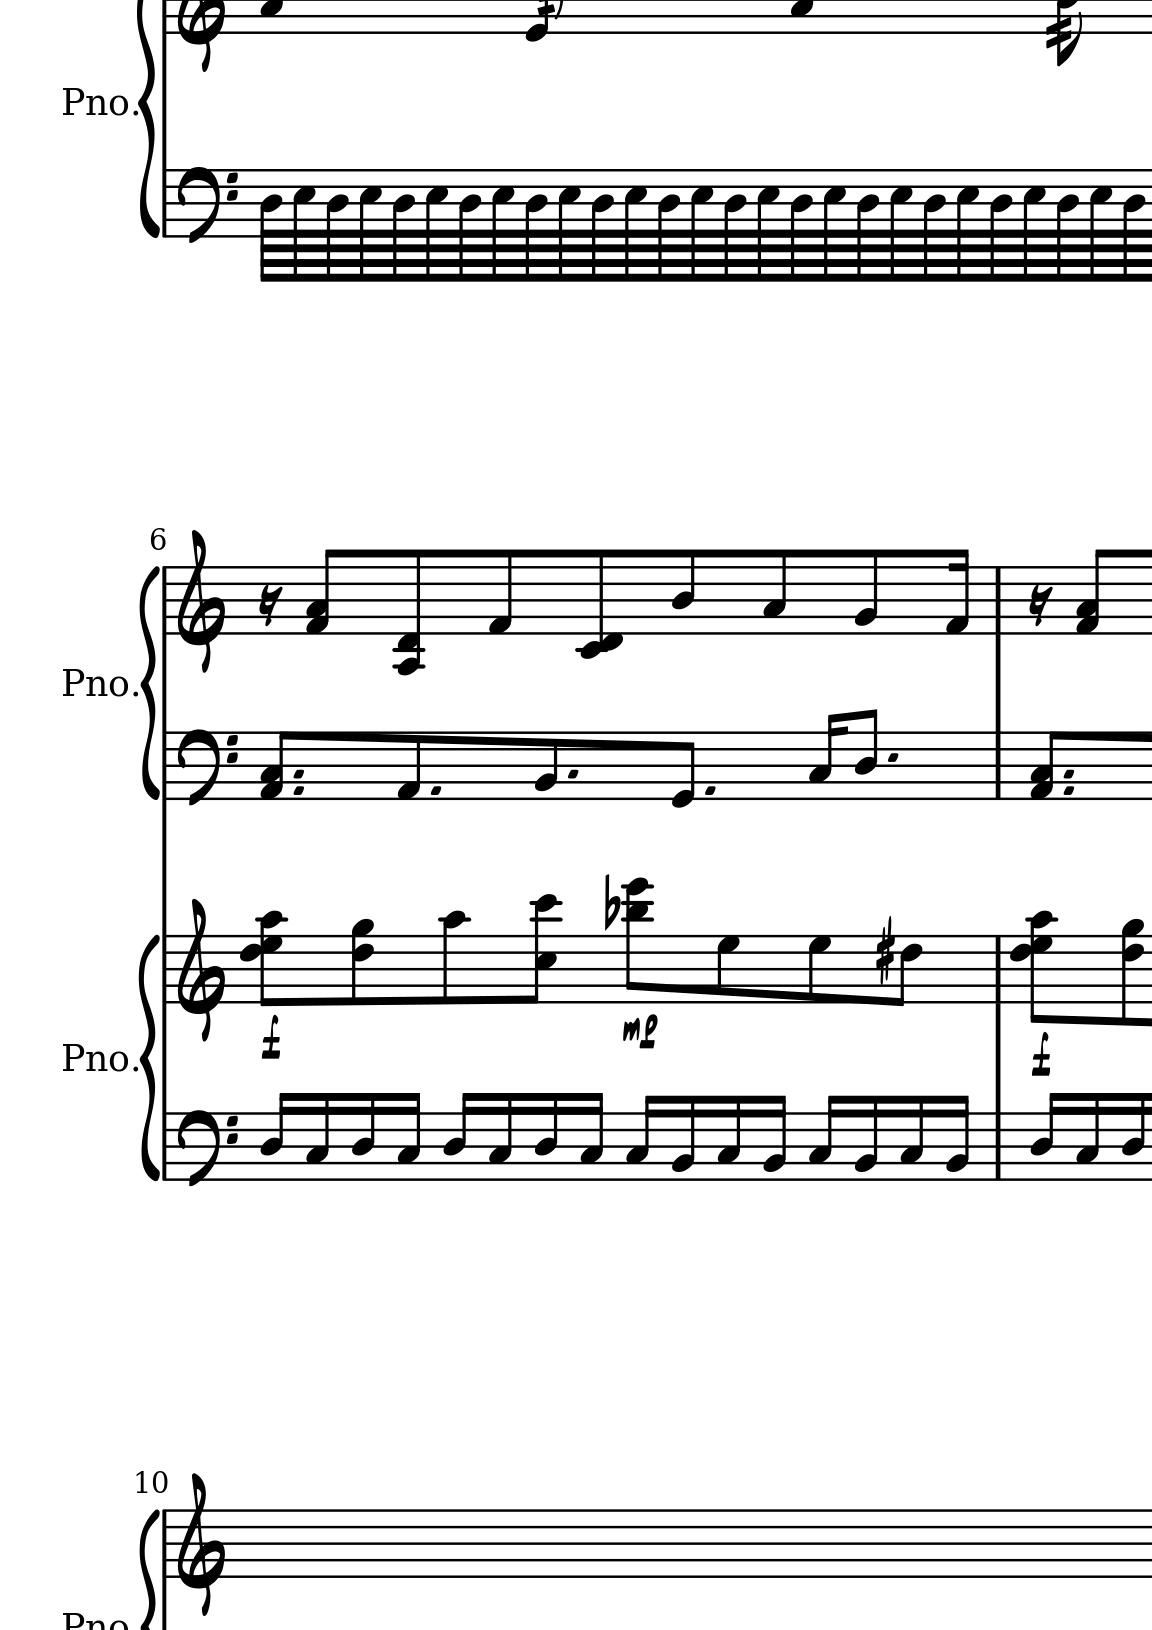0: (150, 1466, 168, 1495)
1: (133, 1467, 150, 1497)
16_1: (943, 547, 970, 639)
16_2: (943, 1093, 971, 1183), (852, 1094, 880, 1183), (670, 1094, 697, 1183), (761, 1093, 787, 1183)
16_3: (805, 712, 847, 801), (622, 1093, 657, 1183), (805, 1093, 840, 1183), (302, 1090, 330, 1183), (485, 1090, 514, 1183), (1073, 1090, 1102, 1183), (896, 1093, 925, 1183), (394, 1090, 421, 1183), (576, 1090, 603, 1183), (714, 1093, 742, 1183)
16_4: (440, 1090, 475, 1183), (1027, 1090, 1062, 1183), (258, 1090, 292, 1183), (1120, 1090, 1147, 1184), (532, 1090, 560, 1183), (350, 1090, 377, 1183)
6: (148, 523, 168, 553)
64_4: (257, 169, 282, 285), (588, 168, 613, 284), (987, 168, 1012, 284), (522, 168, 547, 283), (1054, 168, 1078, 283), (458, 168, 481, 284), (722, 168, 746, 284), (855, 168, 879, 284), (1122, 168, 1146, 284), (656, 168, 679, 283), (788, 168, 812, 283), (324, 169, 348, 283), (391, 168, 414, 283), (923, 168, 945, 283)
64_5: (689, 166, 714, 283), (756, 166, 780, 283), (822, 166, 847, 283), (954, 166, 979, 283), (423, 167, 448, 283), (490, 167, 515, 283), (556, 167, 581, 283), (888, 167, 913, 283), (1088, 167, 1113, 283), (290, 167, 315, 282), (1021, 167, 1046, 282), (623, 166, 647, 283), (358, 167, 382, 283)
8_-2_-1: (578, 548, 623, 660)
8_-4_-1: (391, 548, 426, 677)
8_0: (670, 730, 697, 810)
8_1: (485, 547, 512, 637), (394, 730, 421, 803)
8_10: (439, 910, 469, 1007)
8_11_14: (622, 874, 653, 1004)
8_1_3: (1077, 548, 1113, 638), (305, 547, 339, 638), (1029, 732, 1063, 803), (258, 732, 293, 801)
8_2: (852, 548, 879, 638), (532, 732, 559, 803)
8_3: (761, 547, 788, 637)
8_4: (670, 548, 697, 636), (854, 707, 878, 803)
8_5_12: (526, 894, 565, 1007)
8_6: (891, 933, 923, 1009)
8_6_9: (1120, 917, 1145, 1029), (349, 917, 373, 1007)
8_7: (805, 933, 832, 1006), (714, 933, 741, 1004)
8_th: (1007, 908, 1058, 1026), (237, 906, 283, 1009)
Brace: (138, 931, 160, 1183), (138, 563, 157, 804)
Fclef: (175, 1107, 239, 1190), (175, 727, 239, 808), (175, 164, 238, 245)
Flat: (601, 870, 621, 933)
Gclef: (172, 1469, 228, 1618), (175, 527, 226, 673), (176, 896, 226, 1042)
Pno: (60, 1039, 128, 1078), (60, 664, 127, 702), (61, 83, 127, 120)
Rests16: (256, 582, 283, 628), (1026, 582, 1052, 628)
Sharp: (873, 918, 894, 987)
Single_barline: (986, 567, 1007, 636), (987, 732, 1009, 799), (987, 936, 1007, 1004), (987, 1113, 1007, 1180), (157, 935, 175, 1004), (158, 566, 175, 636), (158, 1509, 175, 1578), (158, 1113, 175, 1180), (160, 732, 175, 799), (158, 169, 173, 236)
dot: (564, 763, 582, 784), (884, 749, 901, 766), (702, 780, 718, 799), (1061, 766, 1077, 783), (289, 766, 305, 781), (1062, 783, 1078, 798), (426, 784, 444, 798), (289, 783, 305, 796)
f: (259, 1014, 282, 1060), (1030, 1031, 1052, 1077)
mp: (618, 1013, 660, 1051)
